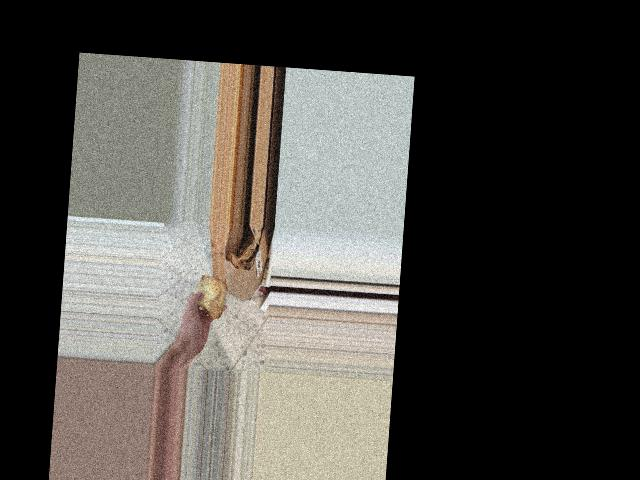onion: (190, 272, 229, 323)
